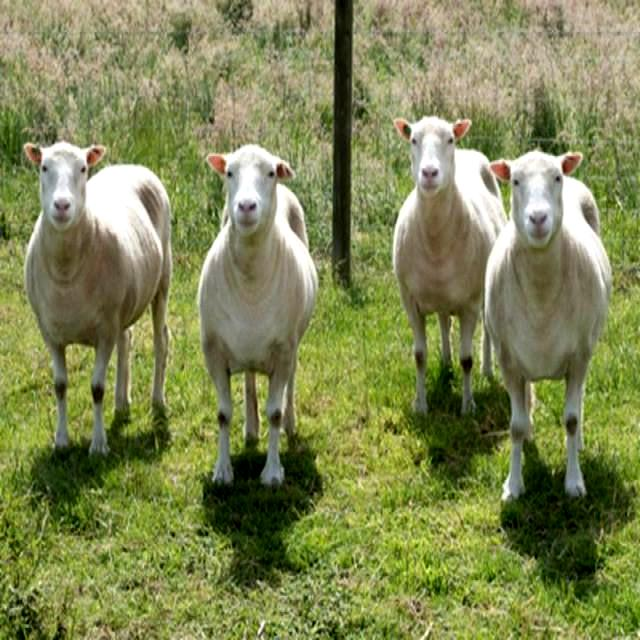sheep: (23, 142, 171, 454), (486, 151, 613, 502), (197, 144, 314, 487), (390, 117, 504, 419)
